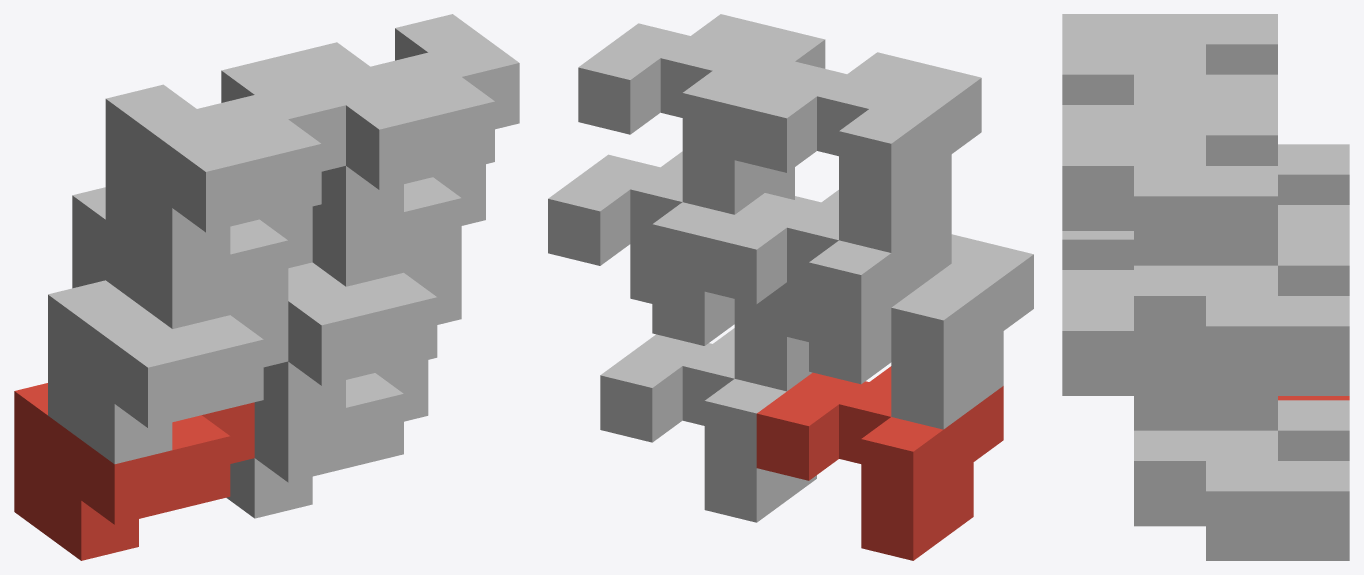
Rendered from tiling.obj.
3 renders of one model, left to right at view 1: azimuth 30°, elevation 25°; view 2: azimuth 150°, elevation 25°; view 3: azimuth 270°, elevation 25°, orthographic. The views are drawn at different scales.
Visible parts, largest first — view 1: copy_1_domain_4, copy_1_domain_2, copy_1_domain_8, copy_1_domain_1, copy_1_domain_6, copy_1_domain_3, copy_1_domain_5, copy_1_domain_7; view 2: copy_1_domain_4, copy_1_domain_1, copy_1_domain_8, copy_1_domain_3, copy_1_domain_2, copy_1_domain_7, copy_1_domain_5, copy_1_domain_6; view 3: copy_1_domain_8, copy_1_domain_5, copy_1_domain_7, copy_1_domain_4, copy_1_domain_6, copy_1_domain_3, copy_1_domain_2.
Boxes of the visible parts, x1=… form: copy_1_domain_4: x1=105, y1=56, x2=345, y2=268; copy_1_domain_2: x1=48, y1=280, x2=288, y2=464; copy_1_domain_8: x1=279, y1=14, x2=519, y2=226; copy_1_domain_1: x1=14, y1=383, x2=254, y2=560; copy_1_domain_6: x1=260, y1=258, x2=461, y2=421; copy_1_domain_3: x1=72, y1=187, x2=312, y2=328; copy_1_domain_5: x1=226, y1=360, x2=428, y2=518; copy_1_domain_7: x1=312, y1=164, x2=485, y2=286; copy_1_domain_4: x1=734, y1=52, x2=981, y2=252; copy_1_domain_1: x1=756, y1=366, x2=1003, y2=560; copy_1_domain_8: x1=578, y1=14, x2=825, y2=214; copy_1_domain_3: x1=704, y1=190, x2=951, y2=384; copy_1_domain_2: x1=787, y1=234, x2=1033, y2=429; copy_1_domain_7: x1=548, y1=151, x2=794, y2=345; copy_1_domain_5: x1=600, y1=328, x2=816, y2=522; copy_1_domain_6: x1=630, y1=196, x2=820, y2=391; copy_1_domain_8: x1=1062, y1=105, x2=1277, y2=265; copy_1_domain_5: x1=1134, y1=400, x2=1349, y2=560; copy_1_domain_7: x1=1134, y1=235, x2=1349, y2=395; copy_1_domain_4: x1=1062, y1=14, x2=1277, y2=104; copy_1_domain_6: x1=1062, y1=270, x2=1277, y2=430; copy_1_domain_3: x1=1278, y1=144, x2=1349, y2=235; copy_1_domain_2: x1=1062, y1=231, x2=1133, y2=269.
Size of the model in its own units: 7 by 7 by 4.
